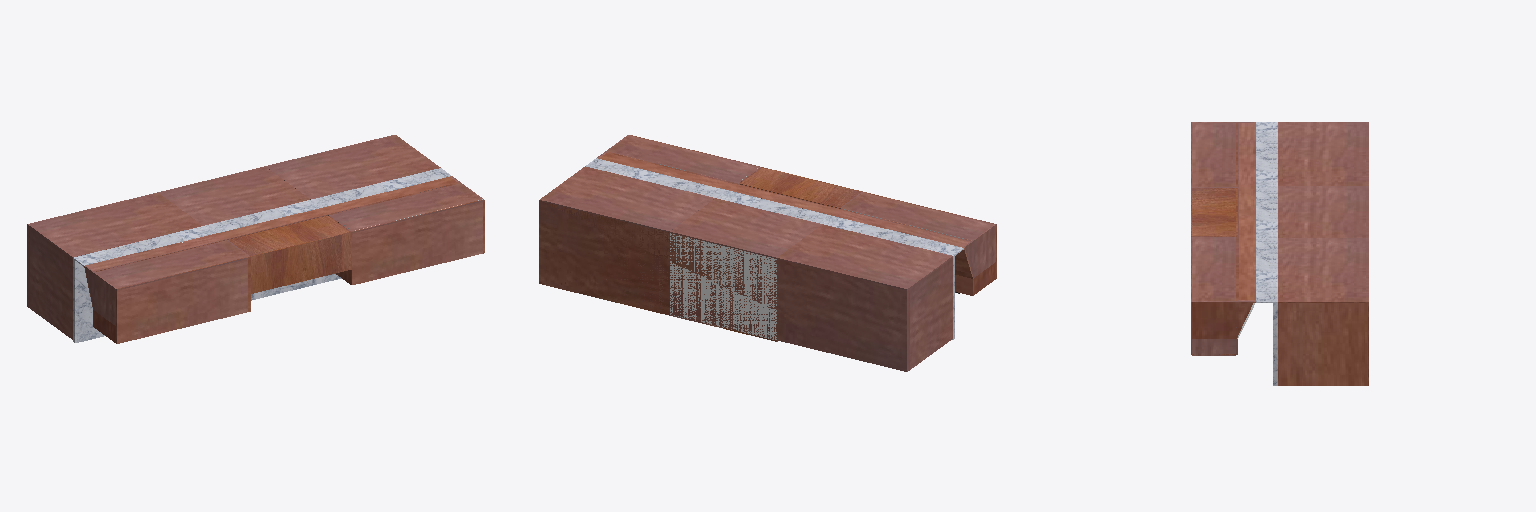
3 views of the same model, side by side, from view 1: azimuth 30°, elevation 25°; view 2: azimuth 150°, elevation 25°; view 3: azimuth 270°, elevation 25° (orthographic).
Visible parts, largest first — view 1: Mesh86 Component_59_1 Model, Mesh85 Component_61_1 Model, Mesh6 Component_30_1 Model, Mesh55 Component_39_1 Model, Mesh61 Component_6_1 Model, Mesh122 Component_52_1 Component_93_1 Model, Mesh3 Component_34_1 Model, Mesh91 Component_76_1 Model, Mesh80 Component_51_1 Model, Mesh93 Group_9_1 Model, Mesh1 Component_23_1 Model, Mesh92 Group_8_1 Model (+2 smaller); view 2: Mesh11 Component_44_1 Model, Mesh63 Component_38_1 Model, Mesh6 Component_30_1 Model, Mesh55 Component_39_1 Model, Mesh57 Component_26_1 Model, Mesh61 Component_6_1 Model, Mesh3 Component_34_1 Model, Mesh79 Component_50_1 Model, Mesh80 Component_51_1 Model, Mesh91 Component_76_1 Model, Mesh93 Group_9_1 Model, Mesh92 Group_8_1 Model (+3 smaller); view 3: Mesh10 Component_37_1 Model, Mesh55 Component_39_1 Model, Mesh6 Component_30_1 Model, Mesh61 Component_6_1 Model, Mesh91 Component_76_1 Model, Mesh80 Component_51_1 Model, Mesh93 Group_9_1 Model, Mesh92 Group_8_1 Model, Mesh81 Group_4_1 Model, Mesh126 Component_75_1 Component_93_1 Model, Mesh1 Component_23_1 Model.
Part boxes in pixels (left/top/right/bottom): Mesh86 Component_59_1 Model: left=116, top=256, right=250, bottom=343; Mesh85 Component_61_1 Model: left=351, top=199, right=484, bottom=284; Mesh6 Component_30_1 Model: left=27, top=192, right=202, bottom=257; Mesh55 Component_39_1 Model: left=265, top=135, right=440, bottom=199; Mesh61 Component_6_1 Model: left=158, top=166, right=309, bottom=225; Mesh122 Component_52_1 Component_93_1 Model: left=250, top=232, right=351, bottom=293; Mesh3 Component_34_1 Model: left=30, top=228, right=72, bottom=339; Mesh91 Component_76_1 Model: left=85, top=176, right=458, bottom=271; Mesh80 Component_51_1 Model: left=75, top=170, right=450, bottom=266; Mesh93 Group_9_1 Model: left=95, top=240, right=248, bottom=288; Mesh1 Component_23_1 Model: left=73, top=168, right=442, bottom=342; Mesh92 Group_8_1 Model: left=331, top=183, right=481, bottom=230; Mesh11 Component_44_1 Model: left=541, top=201, right=909, bottom=371; Mesh63 Component_38_1 Model: left=539, top=201, right=669, bottom=315; Mesh6 Component_30_1 Model: left=777, top=224, right=952, bottom=290; Mesh55 Component_39_1 Model: left=539, top=166, right=714, bottom=232; Mesh57 Component_26_1 Model: left=670, top=233, right=776, bottom=339; Mesh61 Component_6_1 Model: left=670, top=198, right=821, bottom=258; Mesh3 Component_34_1 Model: left=910, top=258, right=952, bottom=369; Mesh79 Component_50_1 Model: left=777, top=259, right=907, bottom=371; Mesh80 Component_51_1 Model: left=588, top=158, right=963, bottom=255; Mesh91 Component_76_1 Model: left=598, top=152, right=970, bottom=247; Mesh93 Group_9_1 Model: left=841, top=192, right=993, bottom=240; Mesh92 Group_8_1 Model: left=607, top=135, right=758, bottom=182; Mesh10 Component_37_1 Model: left=1278, top=303, right=1367, bottom=385; Mesh55 Component_39_1 Model: left=1278, top=238, right=1368, bottom=302; Mesh6 Component_30_1 Model: left=1278, top=122, right=1368, bottom=185; Mesh61 Component_6_1 Model: left=1278, top=186, right=1368, bottom=237; Mesh91 Component_76_1 Model: left=1238, top=122, right=1255, bottom=302; Mesh80 Component_51_1 Model: left=1256, top=122, right=1272, bottom=302; Mesh93 Group_9_1 Model: left=1192, top=123, right=1235, bottom=186; Mesh92 Group_8_1 Model: left=1192, top=237, right=1235, bottom=300; Mesh81 Group_4_1 Model: left=1192, top=301, right=1253, bottom=355; Mesh126 Component_75_1 Component_93_1 Model: left=1192, top=188, right=1235, bottom=235; Mesh1 Component_23_1 Model: left=1273, top=122, right=1277, bottom=385.
Size of the model in its own units: 144 by 33.06 by 60.51.
Materials: 9 (7 with a texture image).